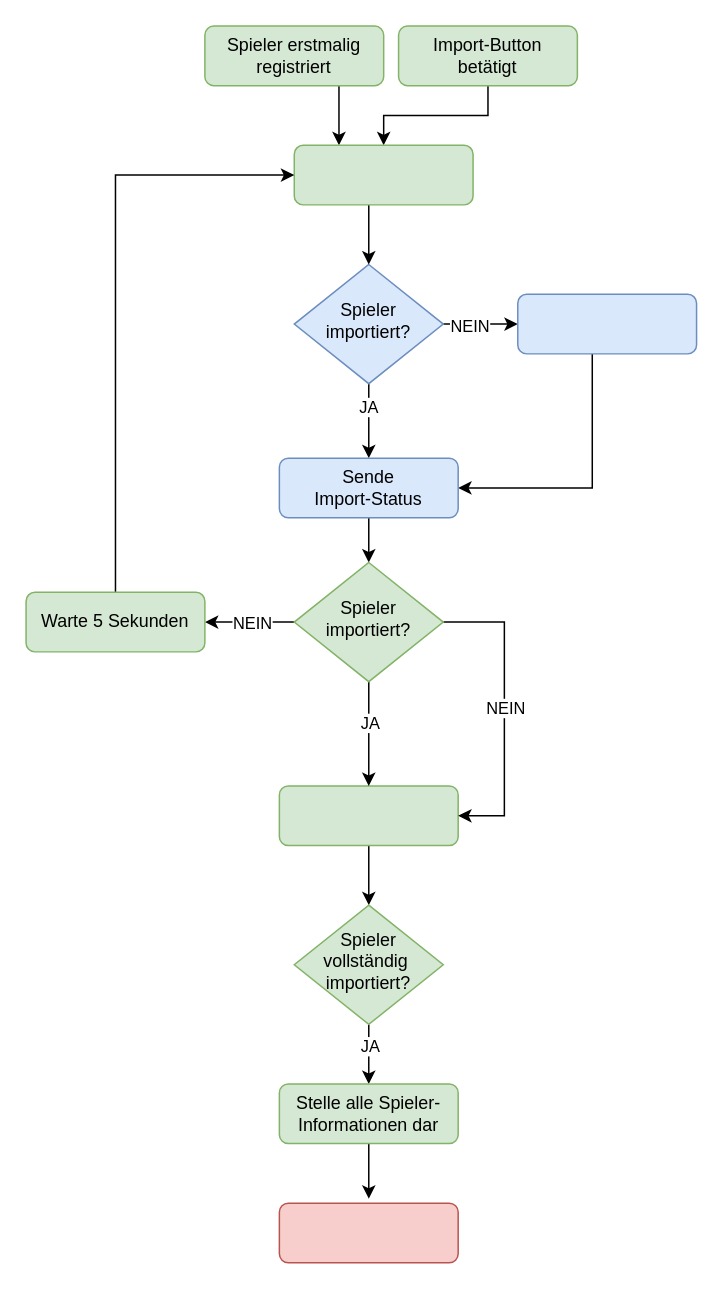
Some shapes in this 723 by 1289 pixel diagram are drawn without their labels. Here are the shapes that lost their labels. From the top down, the centre of each, then its label:
[383,174]: Send HTTP-Anfrage an Player-Backend
[606,323]: Importiere Spieler
[368,815]: Stelle Import-Status dar
[368,1232]: ENDE
